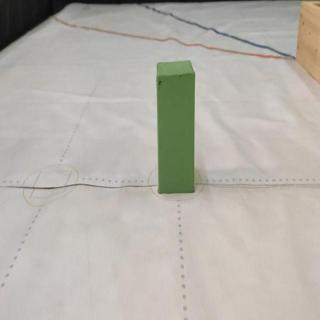greenbox: (156, 61, 196, 195)
